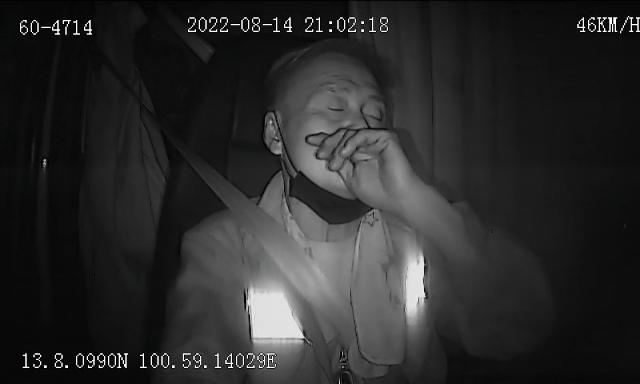Seatbelt: (138, 108, 364, 350)
